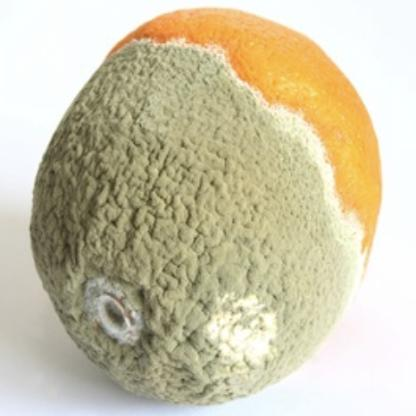rotten: (30, 7, 382, 405)
